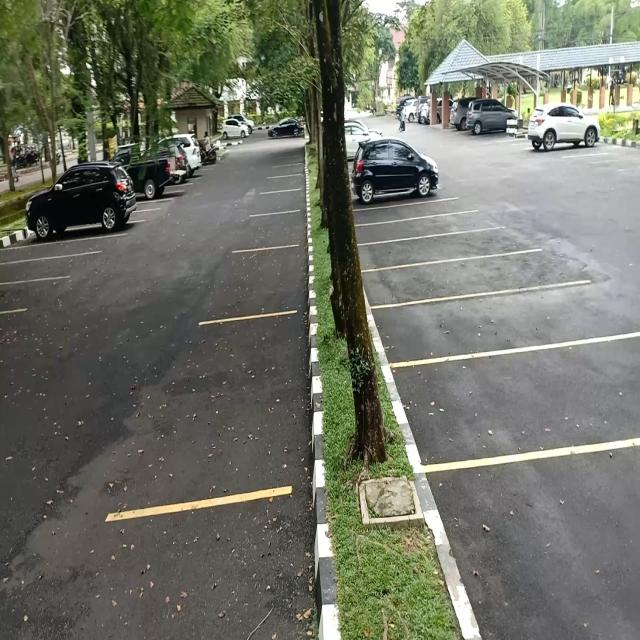empty: (476, 446, 640, 632), (168, 313, 309, 498), (405, 352, 640, 462), (388, 295, 575, 361), (368, 261, 520, 301), (228, 246, 307, 316), (355, 237, 510, 266), (354, 222, 476, 242), (248, 211, 306, 248), (0, 255, 82, 281), (354, 205, 468, 222), (6, 239, 98, 259), (257, 189, 305, 214)
occupied: (24, 195, 142, 239), (352, 164, 447, 208), (526, 124, 602, 157)
